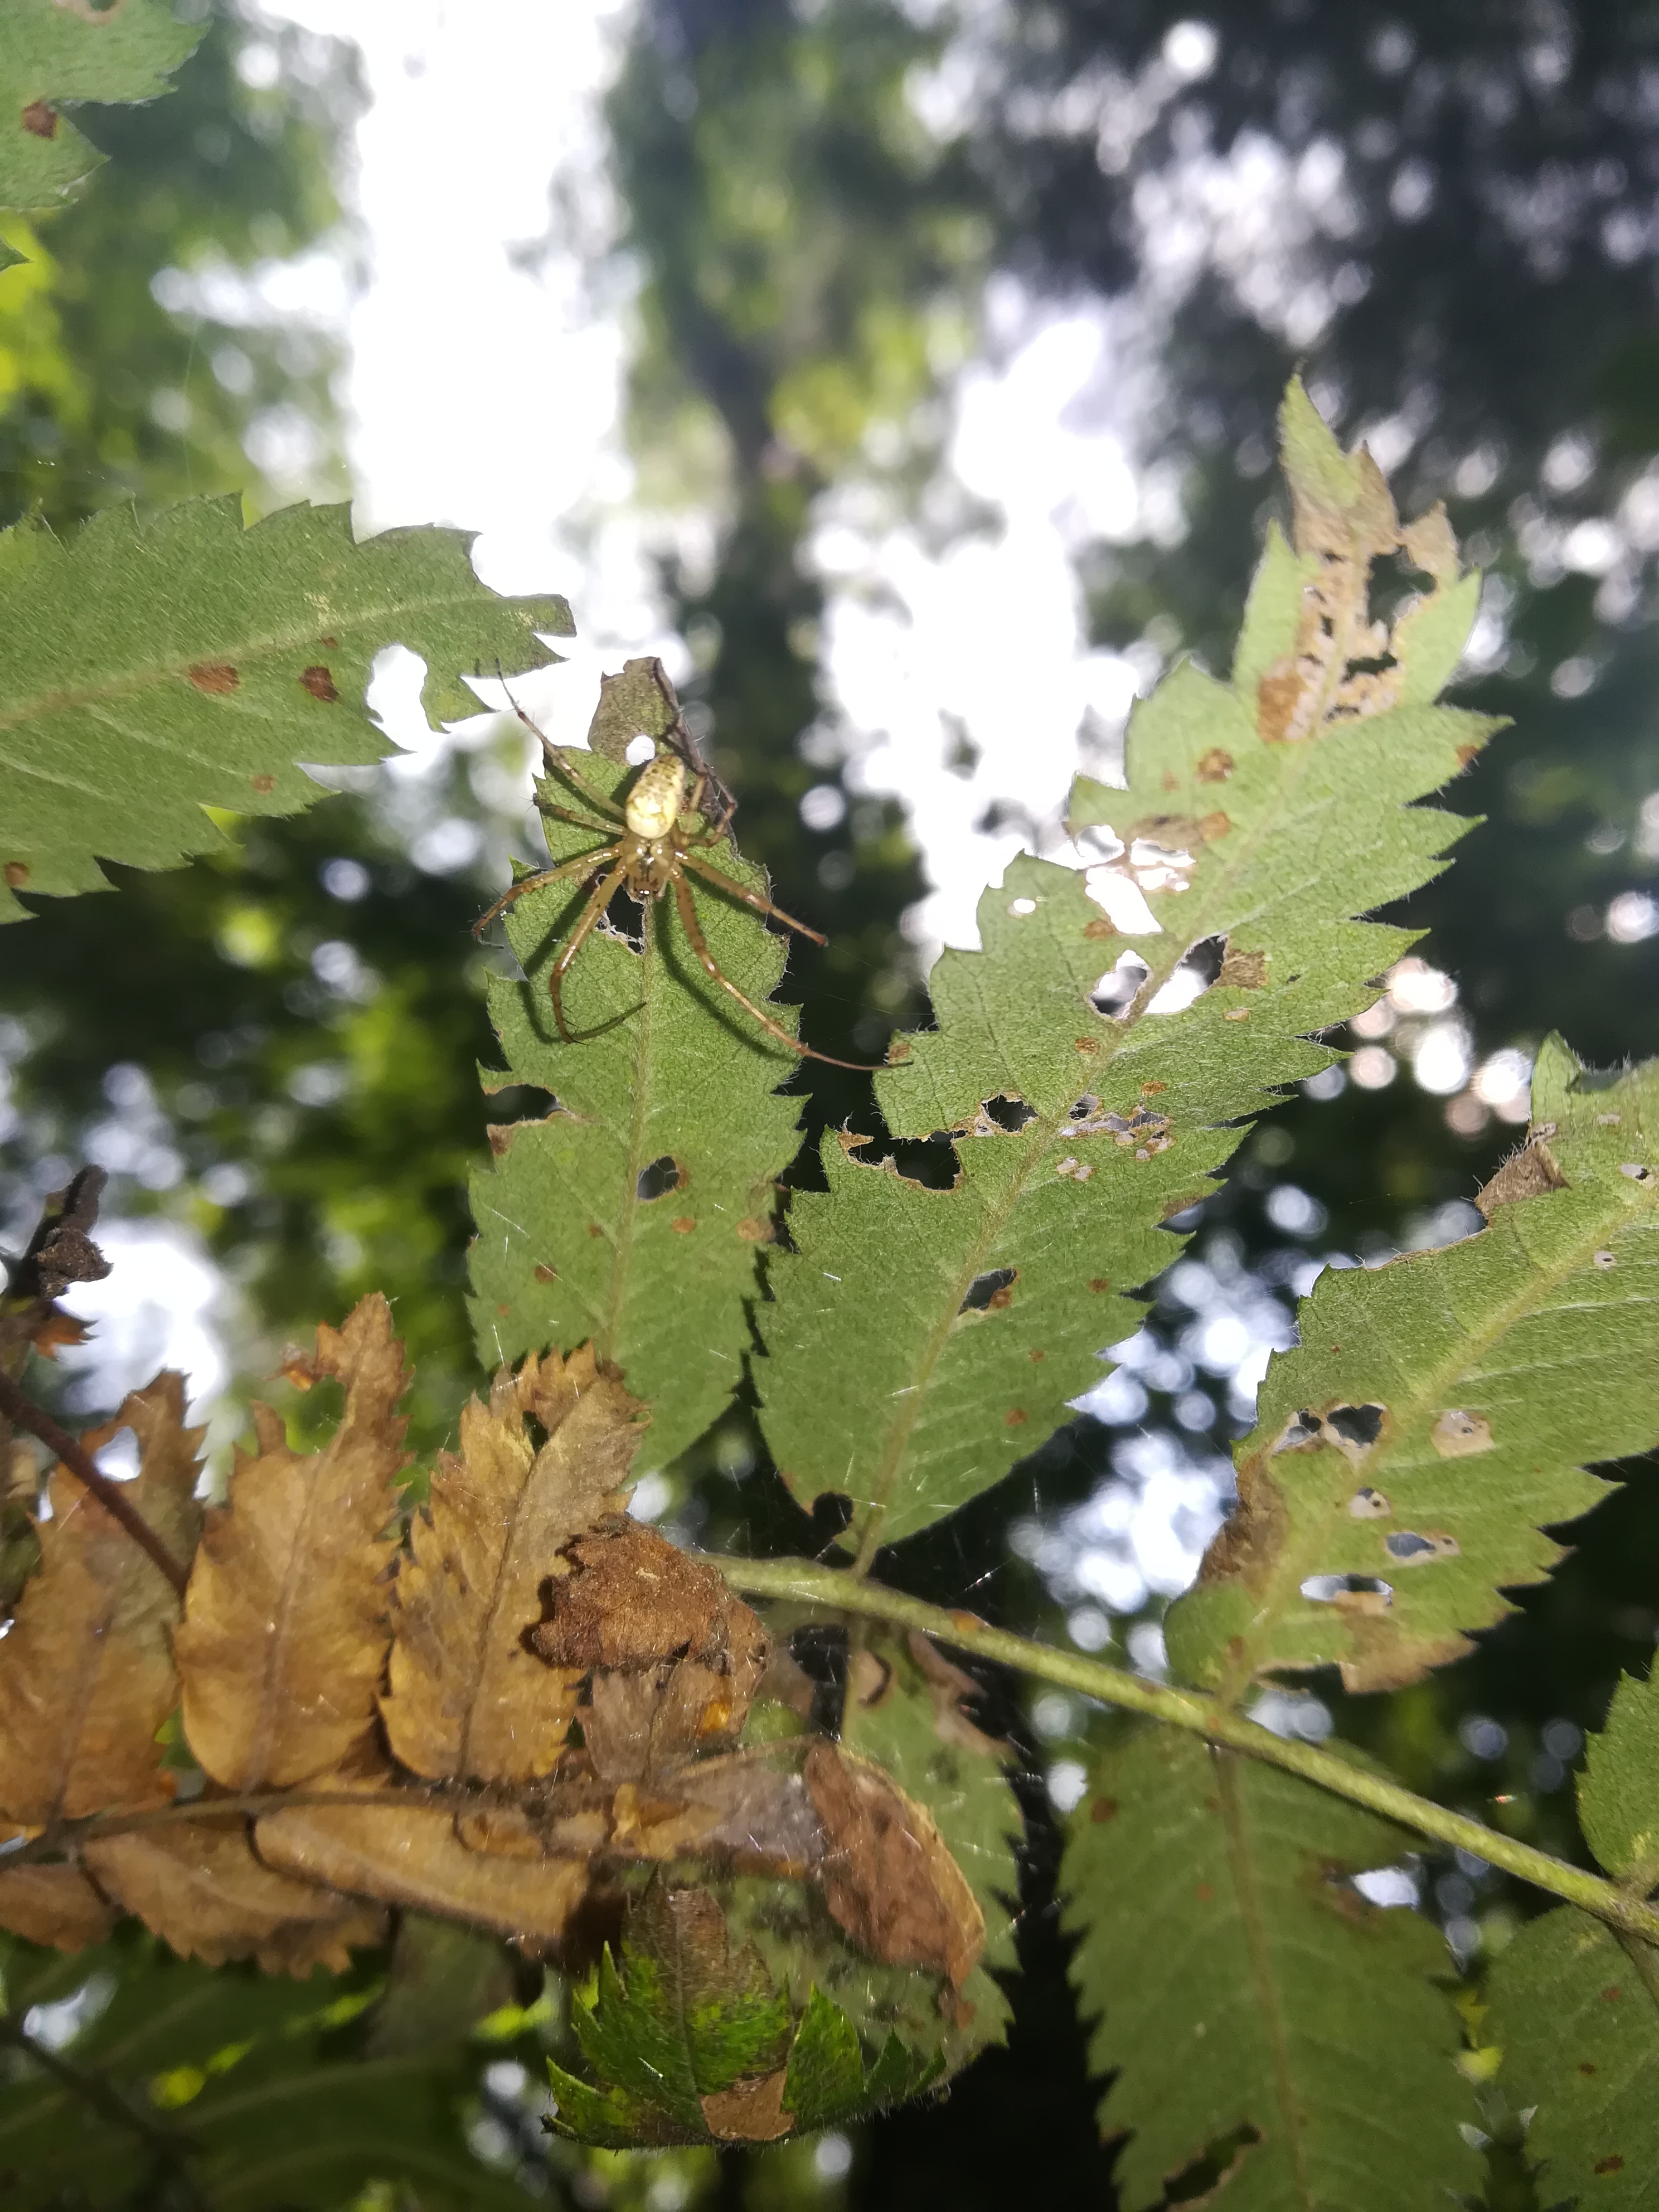spider: (415, 637, 936, 1089)
